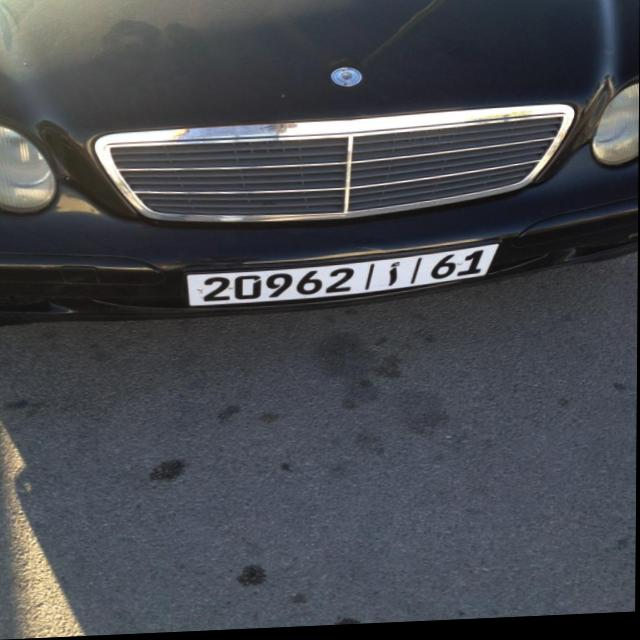License-Plate: (187, 249, 498, 309)
